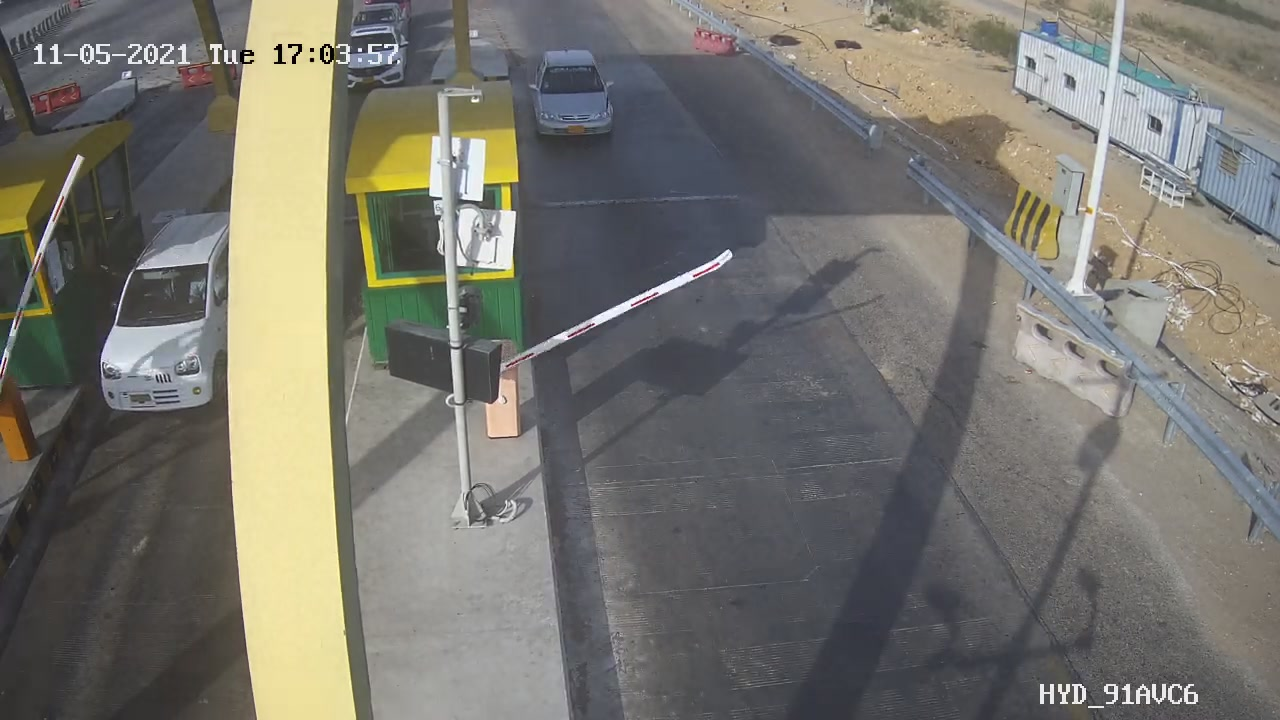F1: (516, 42, 634, 151)
